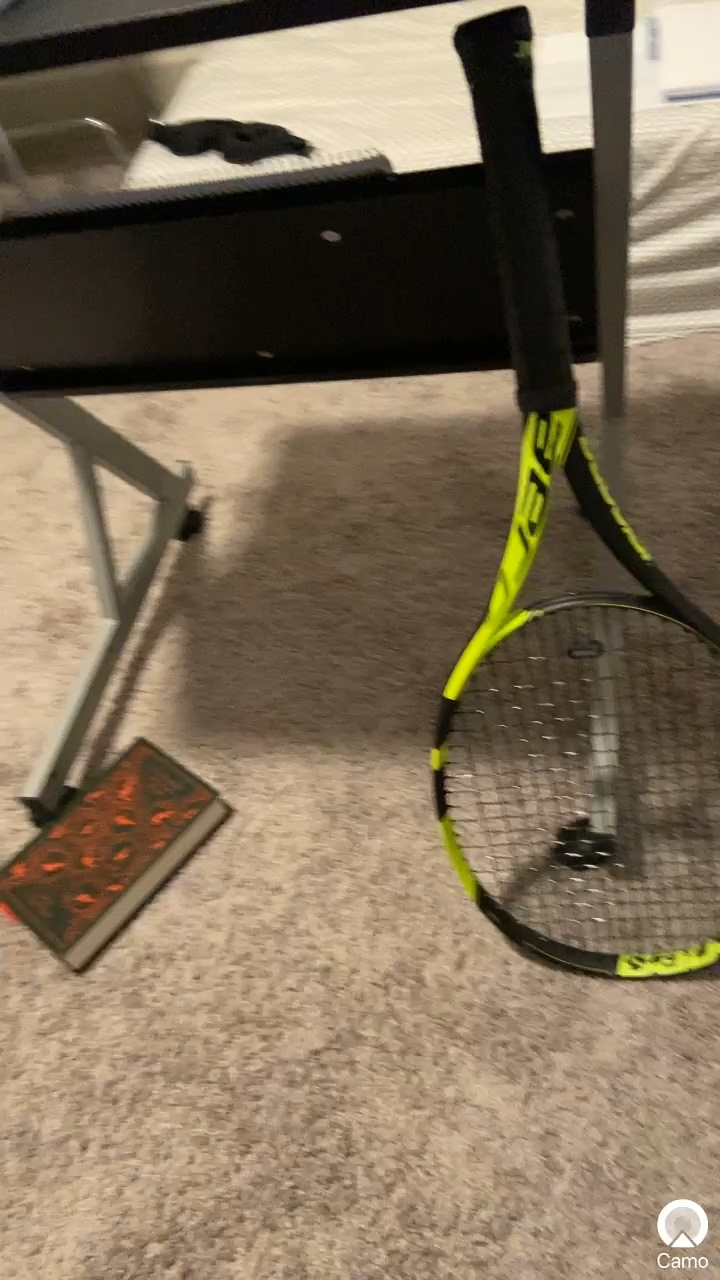Tennis_Racquet: (411, 4, 720, 1003)
